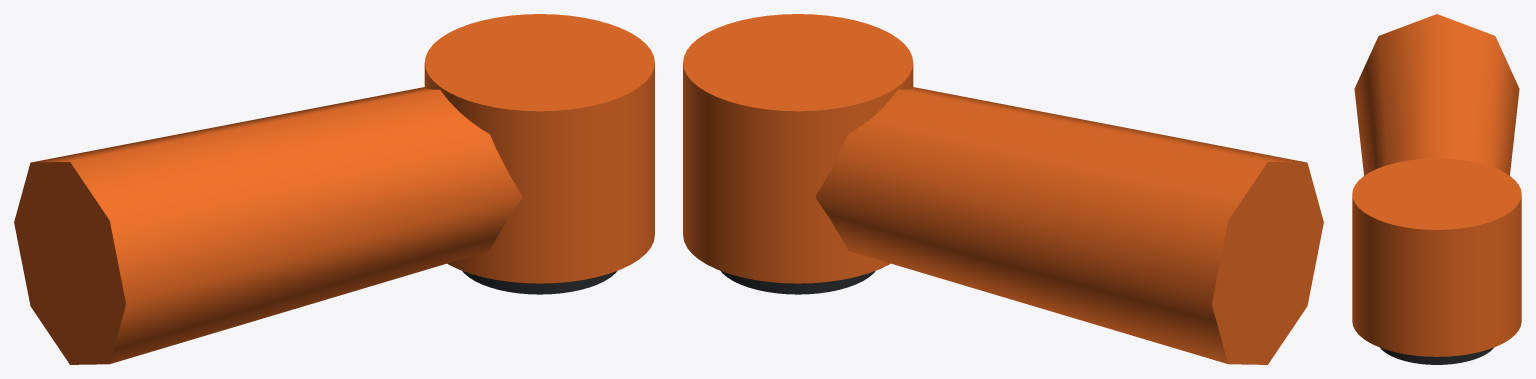
The picture shows the model from 3 angles, left to right: view 1: azimuth 30°, elevation 25°; view 2: azimuth 150°, elevation 25°; view 3: azimuth 270°, elevation 25°; orthographic projection. The views are drawn at different scales.
Parts seen in each view (by area): view 1: arm_extension, wrist_bearing, wrist_side_cap; view 2: arm_extension, wrist_bearing, wrist_side_cap; view 3: wrist_bearing, arm_extension, wrist_side_cap.
Part boxes in pixels (x1=…): arm_extension: x1=14, y1=87, x2=522, y2=364; wrist_bearing: x1=424, y1=14, x2=654, y2=283; wrist_side_cap: x1=462, y1=271, x2=616, y2=294; arm_extension: x1=815, y1=87, x2=1323, y2=364; wrist_bearing: x1=683, y1=14, x2=913, y2=283; wrist_side_cap: x1=721, y1=271, x2=875, y2=294; wrist_bearing: x1=1352, y1=158, x2=1521, y2=356; arm_extension: x1=1354, y1=14, x2=1519, y2=175; wrist_side_cap: x1=1380, y1=347, x2=1493, y2=364.
Bounding box in the file's own units: 0.657 × 0.2345 × 0.23.
